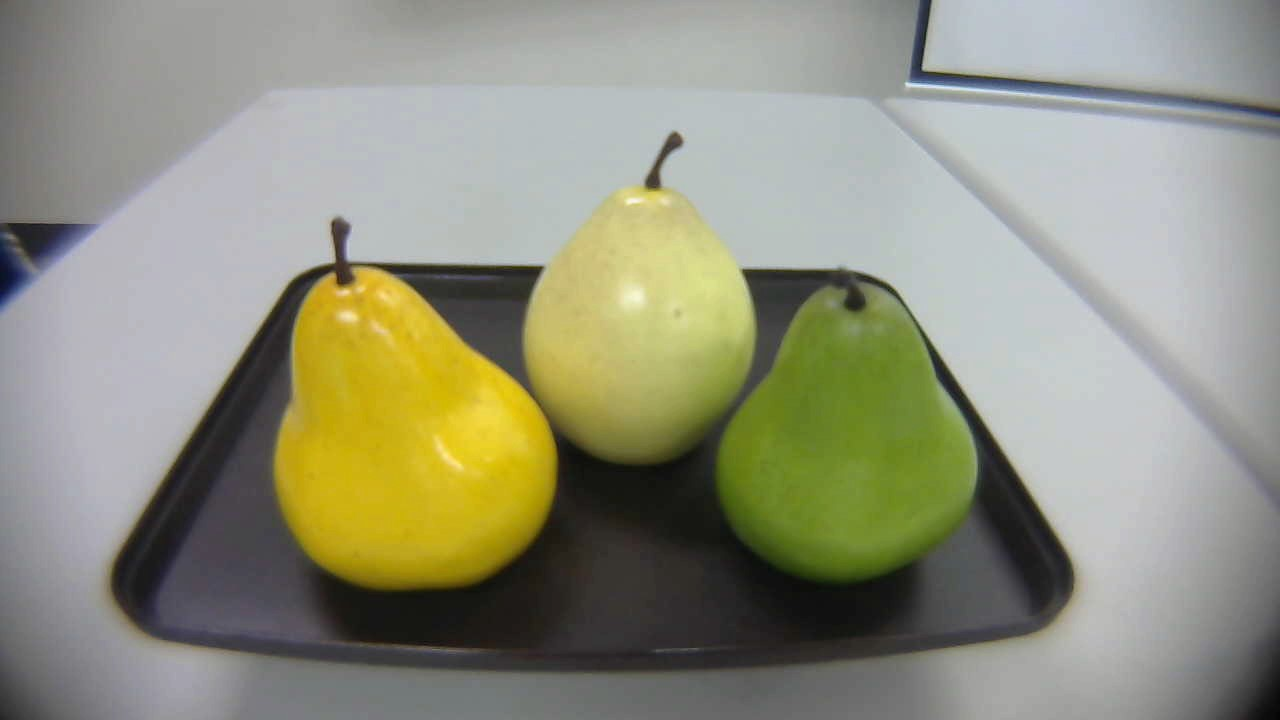green pear: (696, 266, 1001, 595)
western pear: (520, 126, 751, 476)
yellow pear: (272, 221, 559, 588)
